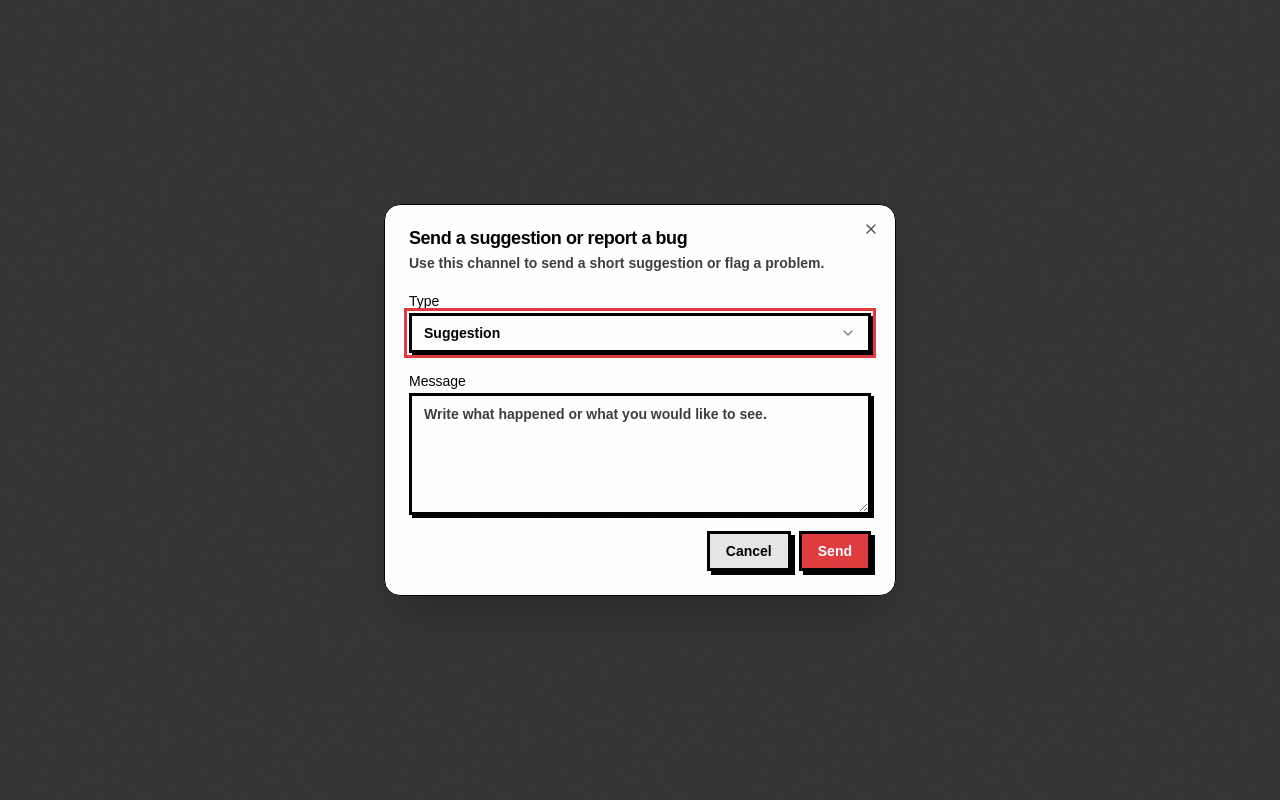
Scenario: permite enviar bug e mostra erro inline quando a request falha
Click the dropdown: (462, 333) [409,313,871,353]
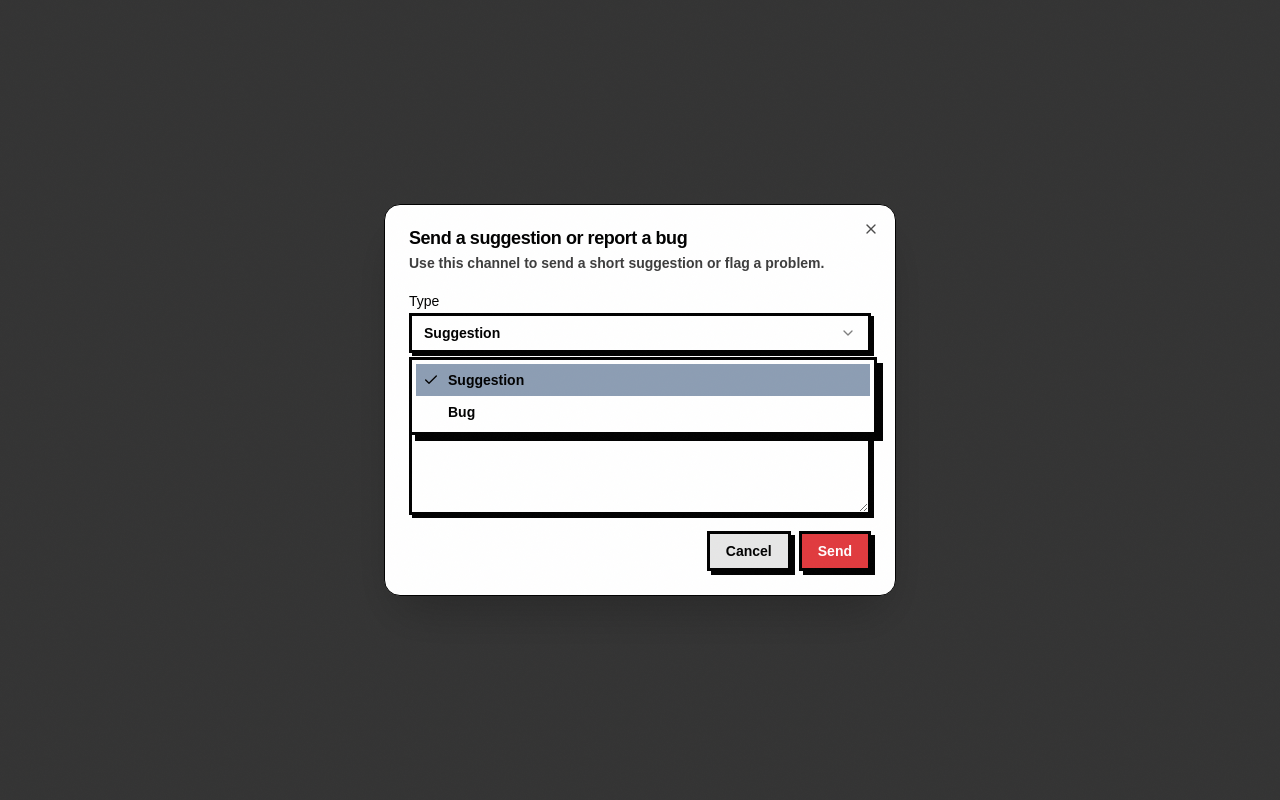
Click the option "Bug": (462, 412) [448,404,475,420]
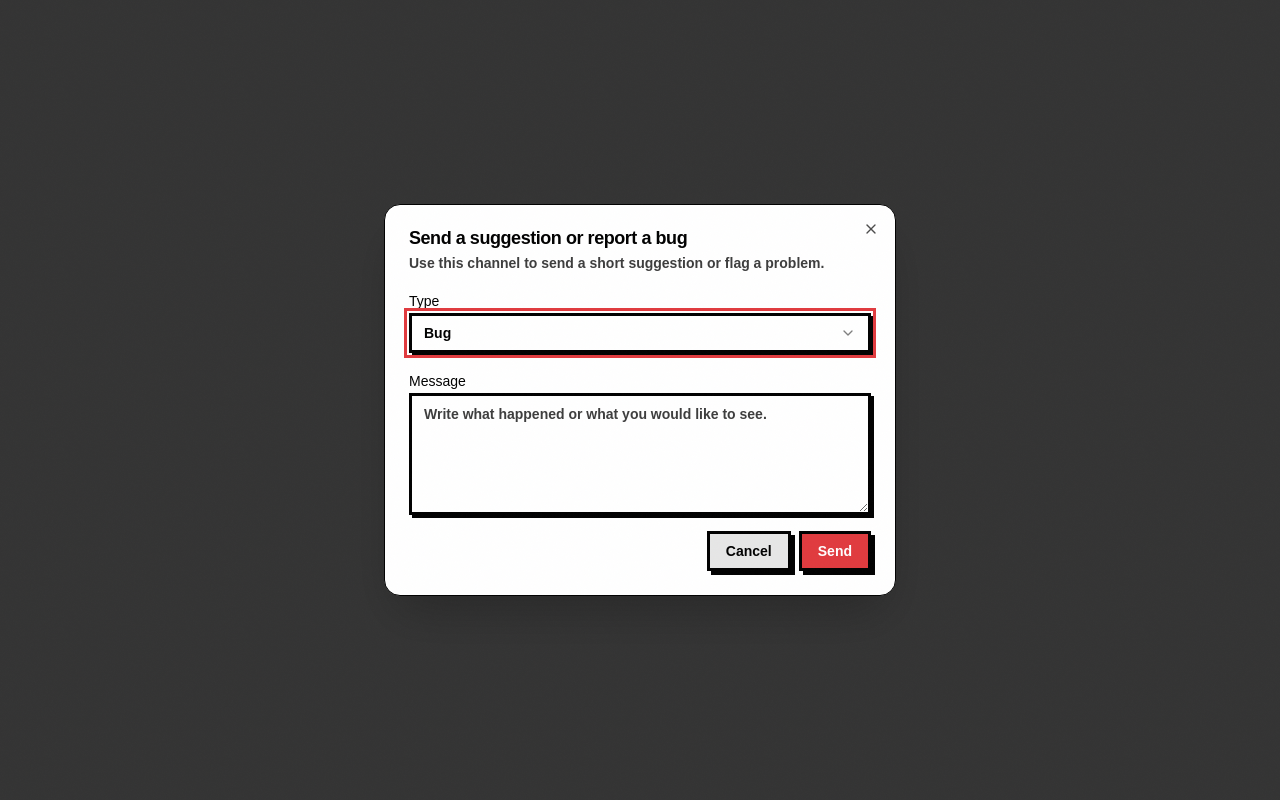
In the text box labelled "Message": (640, 454) [409,393,871,515], type "Map is broken"
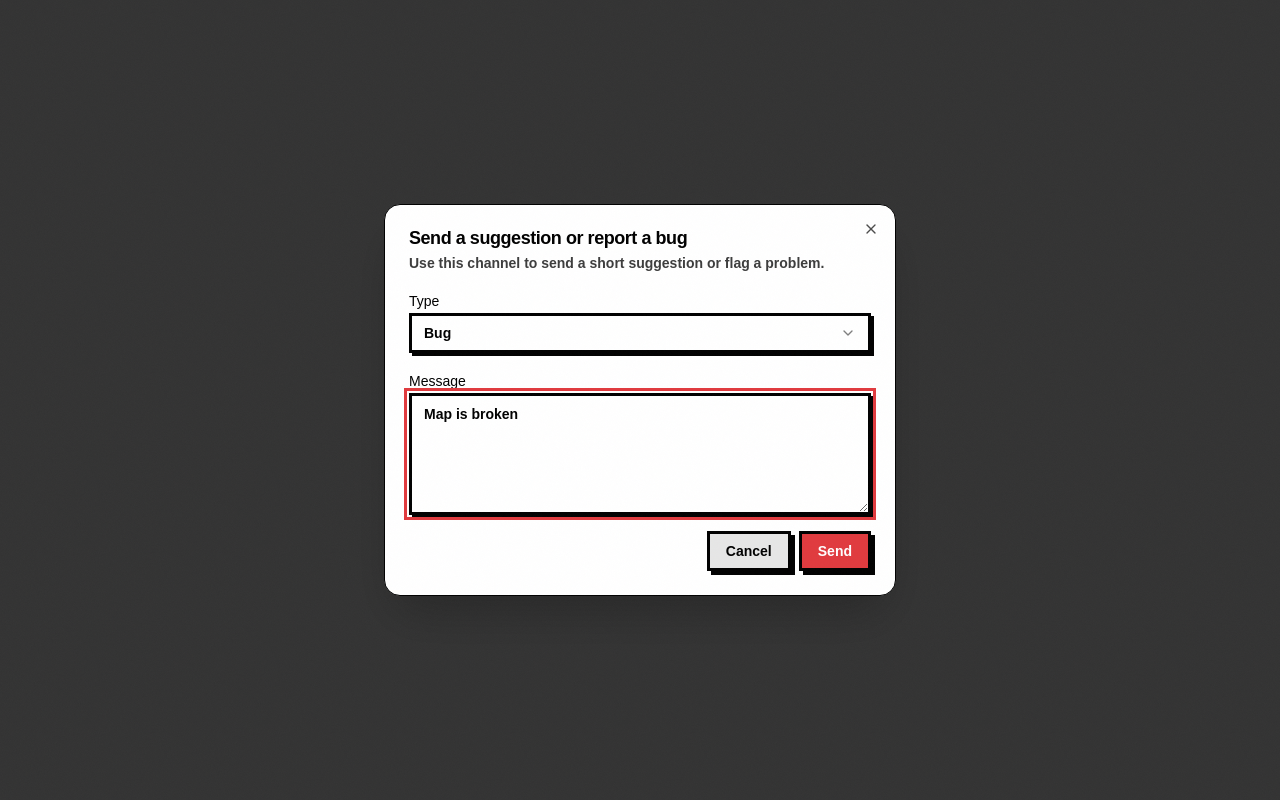
Click the button "Send": (835, 551) [799,531,871,571]
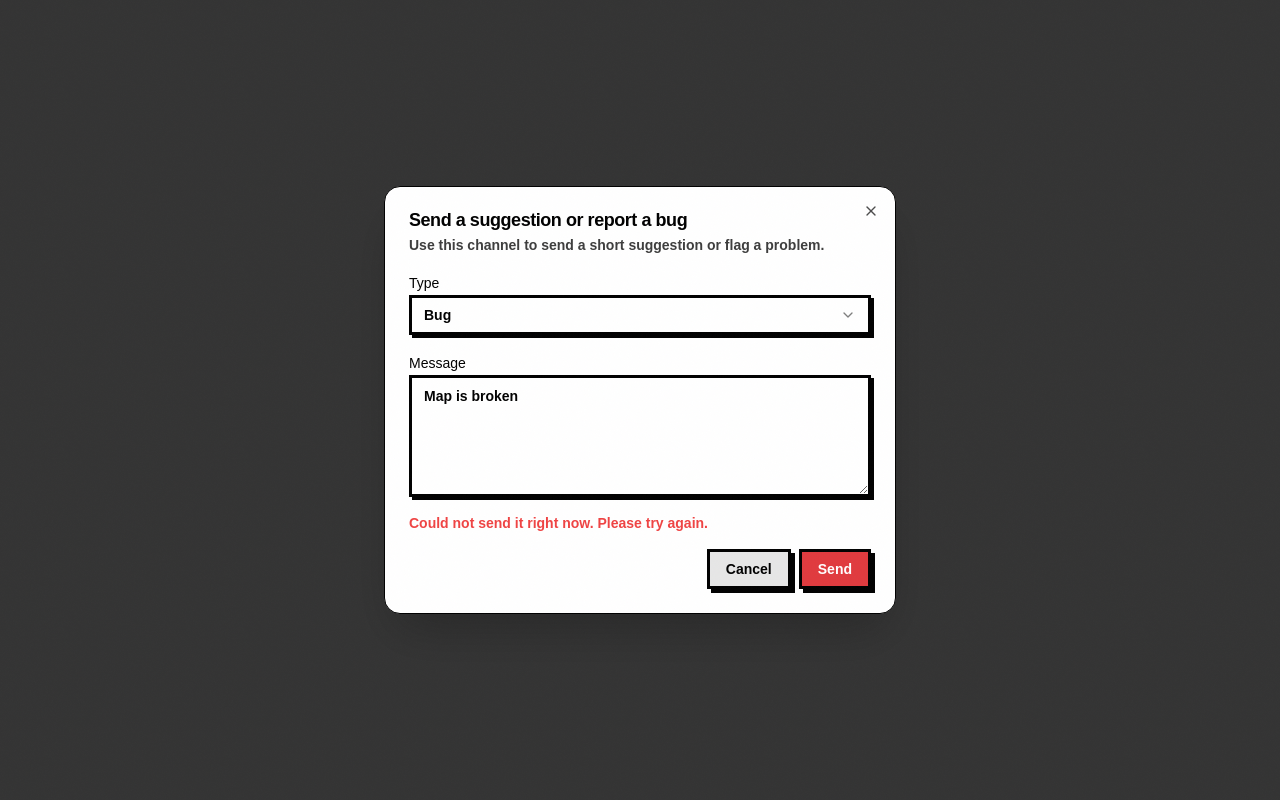
Check: the text "Could not send it right now. Please try again." is shown, box [409,515,708,531]
